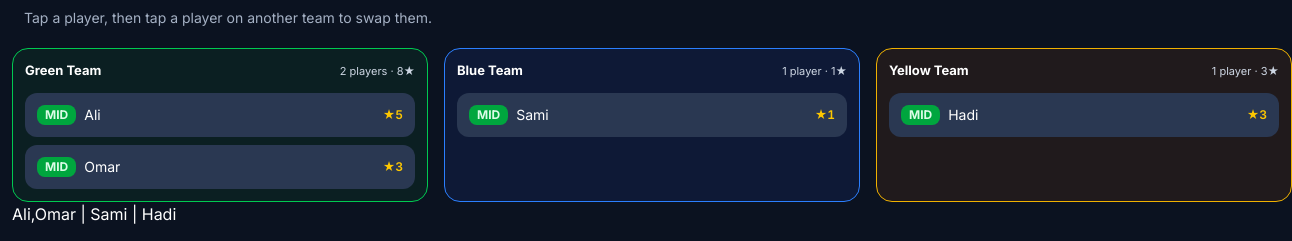
Test: moves the selected player to another team with Move here
Click the button "MID Omar ★3": [57, 166] box [25,144,415,188]
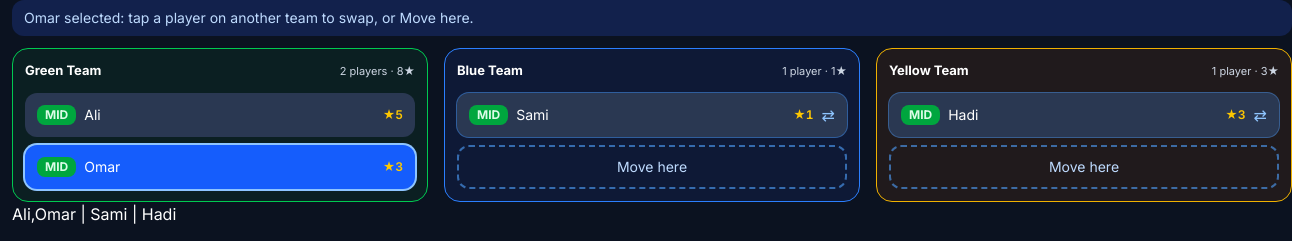
Click the button "Move here" below "Yellow Team": [1084, 166] box [889,144,1279,188]
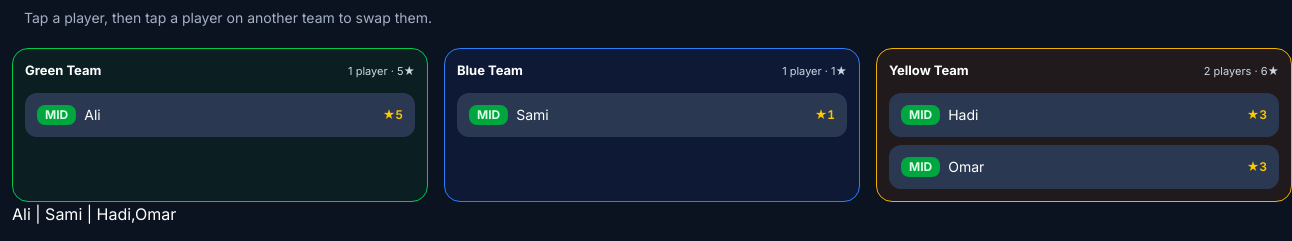
expect the text with test id "state" reads "Ali | Sami | Hadi,Omar": met, box [12,204,176,224]
